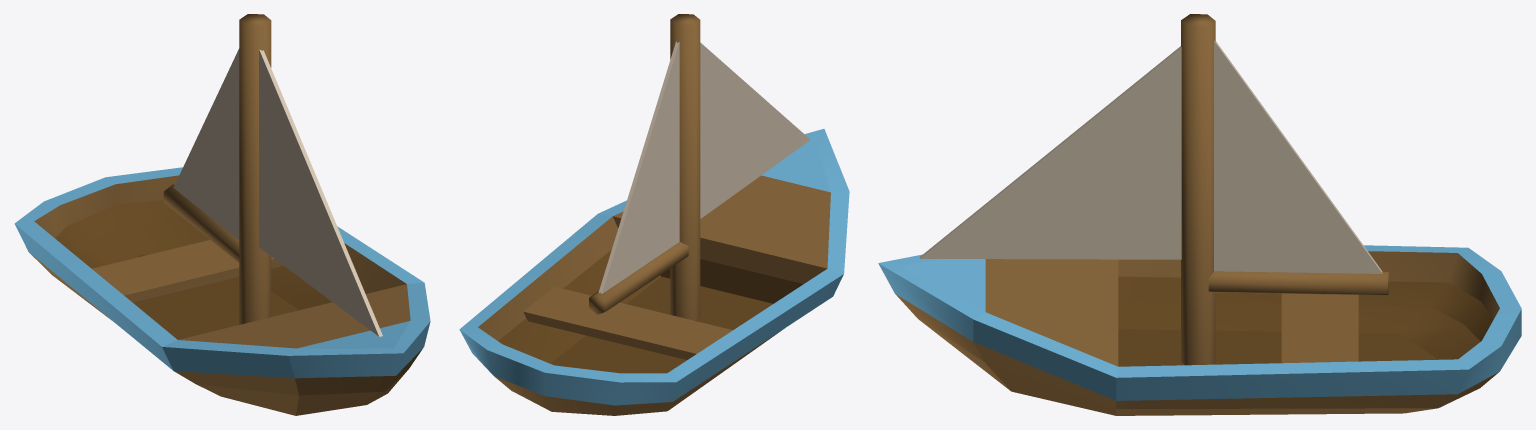
File: SM_Boat_03.fbx
3 views of the same model, side by side, from view 1: azimuth 30°, elevation 25°; view 2: azimuth 150°, elevation 25°; view 3: azimuth 270°, elevation 25° (orthographic). The views are drawn at different scales.
Visible parts, largest first — view 1: barca.003; view 2: barca.003; view 3: barca.003.
Boxes of the visible parts, x1,y1,x2,y2 form: barca.003: [14, 14, 430, 415]; barca.003: [459, 14, 849, 415]; barca.003: [878, 14, 1521, 415].
Size of the model in its own units: 173 by 212 by 339.
